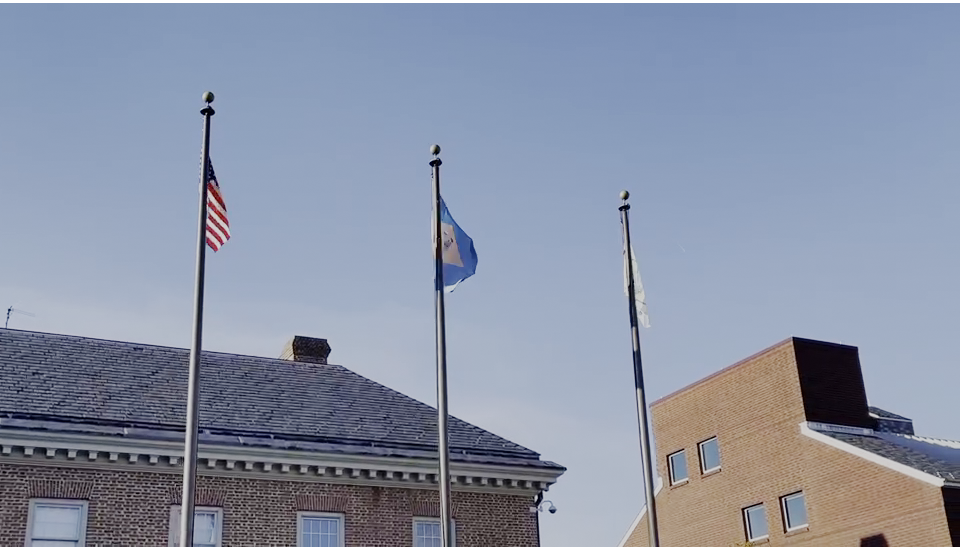America flag: (202, 145, 242, 258)
Delaware flag: (436, 181, 483, 293)
